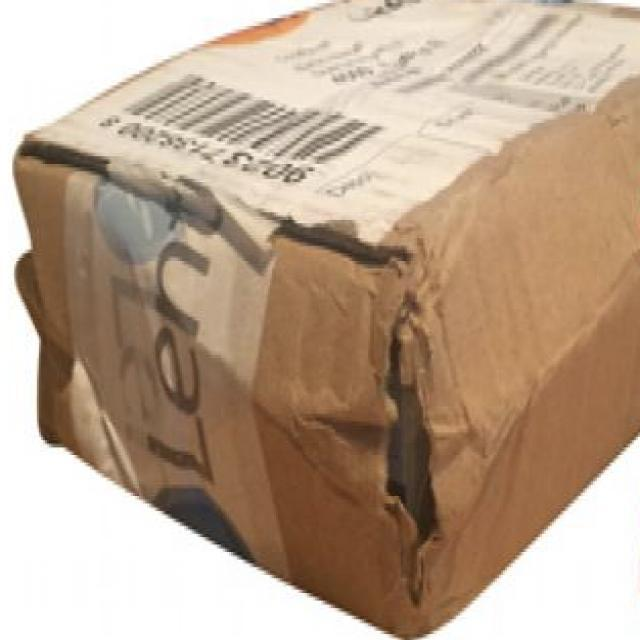hole: (348, 330, 454, 602)
